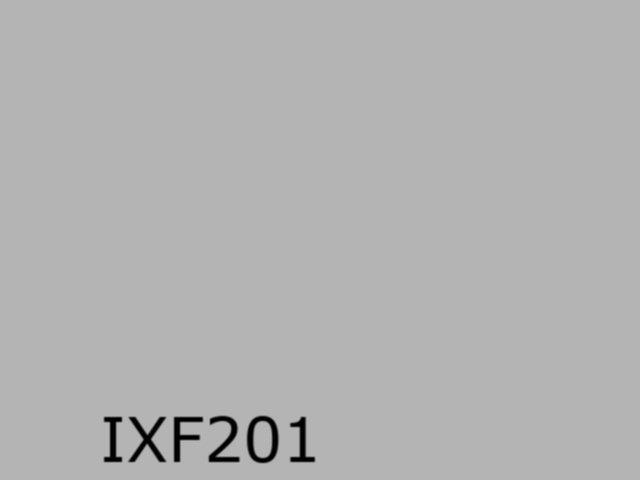OCR_AREA: (96, 412, 325, 467)
